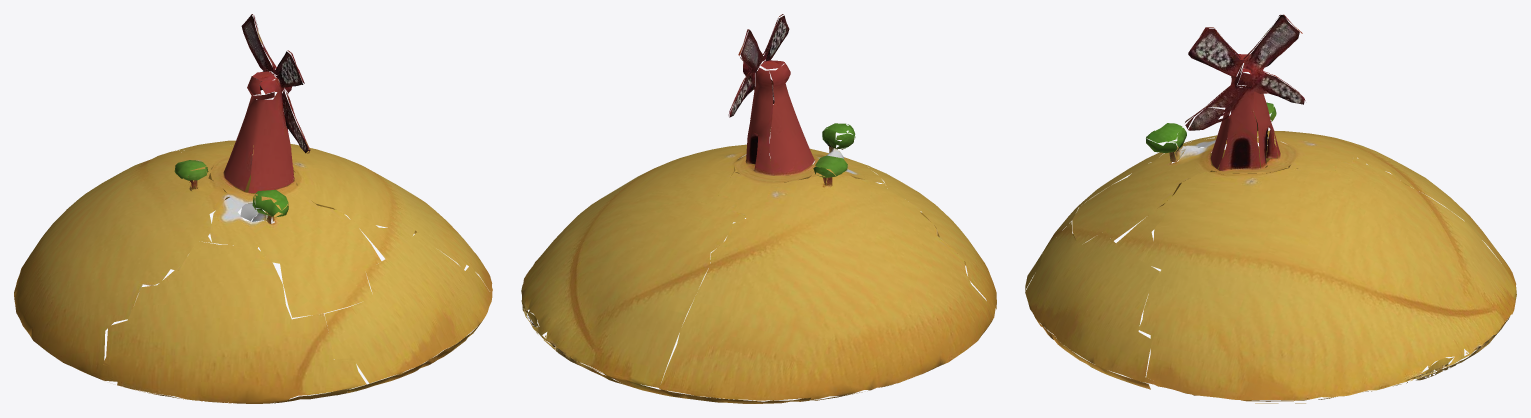
The model's file is tarla_tepe.glb.
3 renders of one model, left to right at view 1: azimuth 30°, elevation 25°; view 2: azimuth 150°, elevation 25°; view 3: azimuth 270°, elevation 25°, orthographic. The views are drawn at different scales.
Visible parts, largest first — view 1: geometry_0; view 2: geometry_0; view 3: geometry_0.
Boxes of the visible parts, bbox=[...] form: geometry_0: bbox=[14, 14, 492, 403]; geometry_0: bbox=[521, 14, 996, 403]; geometry_0: bbox=[1025, 14, 1516, 403].
Size of the model in its own units: 0.7472 by 0.4843 by 0.7419.
Materials: 1 (1 with a texture image).
